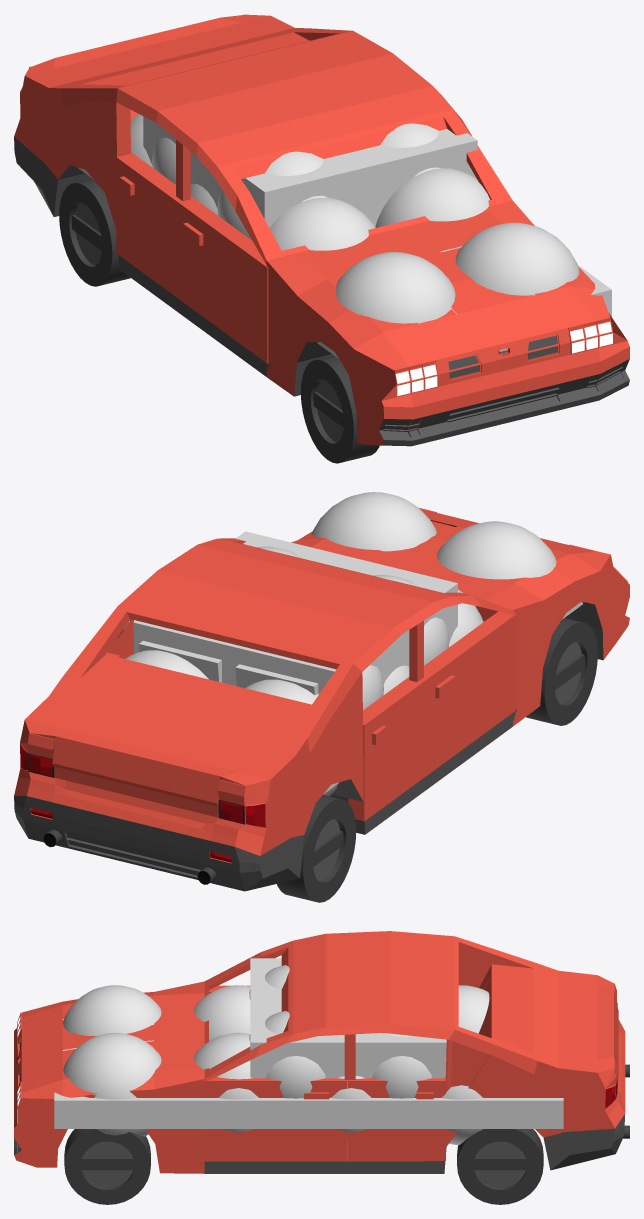
The model's file is sedan.glb.
3 views of the same model, one above another, from view 1: azimuth 30°, elevation 25°; view 2: azimuth 150°, elevation 25°; view 3: azimuth 270°, elevation 25° (orthographic). The views are drawn at different scales.
Visible parts, largest first — view 1: Plane, Cube.002, door_2, Sphere, door_4, Sphere.003, wheel_fr, wheel, Sphere.010, Sphere.011, Sphere.002, Sphere.001 (+2 smaller); view 2: Plane, door_2, Cube.002, door_4, Sphere, Sphere.003, wheel, wheel_fr, Seats.002, Plane.001, Sphere.002, Sphere.005 (+3 smaller); view 3: Plane, Cube.006, Cube.002, door_1, Cylinder.001, wheel_fl, Sphere, door_3, Sphere.003, Sphere.011, Sphere.010, Sphere.001 (+5 smaller).
Boxes of the visible parts, x1,y1,x2,y2 form: Plane: [14, 14, 629, 446]; Cube.002: [143, 116, 477, 227]; door_2: [176, 197, 268, 363]; Sphere: [455, 222, 579, 295]; door_4: [116, 153, 191, 296]; Sphere.003: [335, 252, 457, 323]; wheel_fr: [300, 355, 379, 463]; wheel: [59, 178, 130, 286]; Sphere.010: [375, 168, 490, 248]; Sphere.011: [269, 197, 375, 250]; Sphere.002: [217, 151, 327, 240]; Sphere.001: [380, 123, 440, 176]; Plane: [14, 508, 629, 891]; door_2: [408, 611, 515, 777]; Cube.002: [124, 531, 457, 693]; door_4: [348, 677, 424, 821]; Sphere: [312, 492, 436, 551]; Sphere.003: [437, 521, 556, 579]; wheel: [277, 795, 356, 902]; wheel_fr: [526, 618, 597, 725]; Seats.002: [139, 640, 318, 695]; Plane.001: [20, 744, 265, 862]; Sphere.002: [373, 575, 449, 665]; Sphere.005: [125, 650, 208, 679]; Plane: [14, 931, 629, 1173]; Cube.006: [54, 1019, 563, 1128]; Cube.002: [250, 958, 446, 1078]; door_1: [204, 1077, 346, 1160]; Cylinder.001: [457, 1129, 543, 1204]; wheel_fl: [64, 1129, 150, 1204]; Sphere: [63, 1032, 161, 1136]; door_3: [347, 1078, 445, 1160]; Sphere.003: [63, 985, 161, 1041]; Sphere.011: [194, 985, 250, 1041]; Sphere.010: [194, 1032, 258, 1132]; Sphere.001: [249, 1011, 325, 1098].
Bounding box in the file's own units: 1.31 × 1.07 × 3.34.
